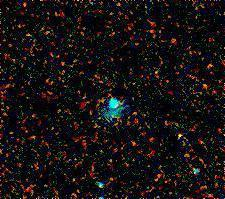star: (163, 123, 193, 153)
